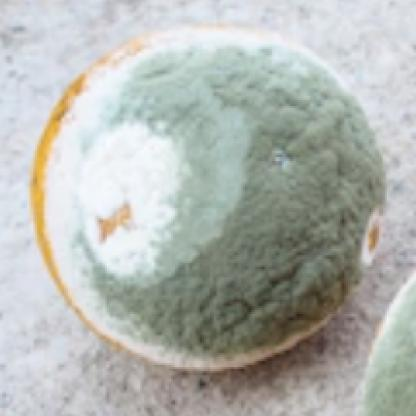rotten: (30, 19, 385, 376)
